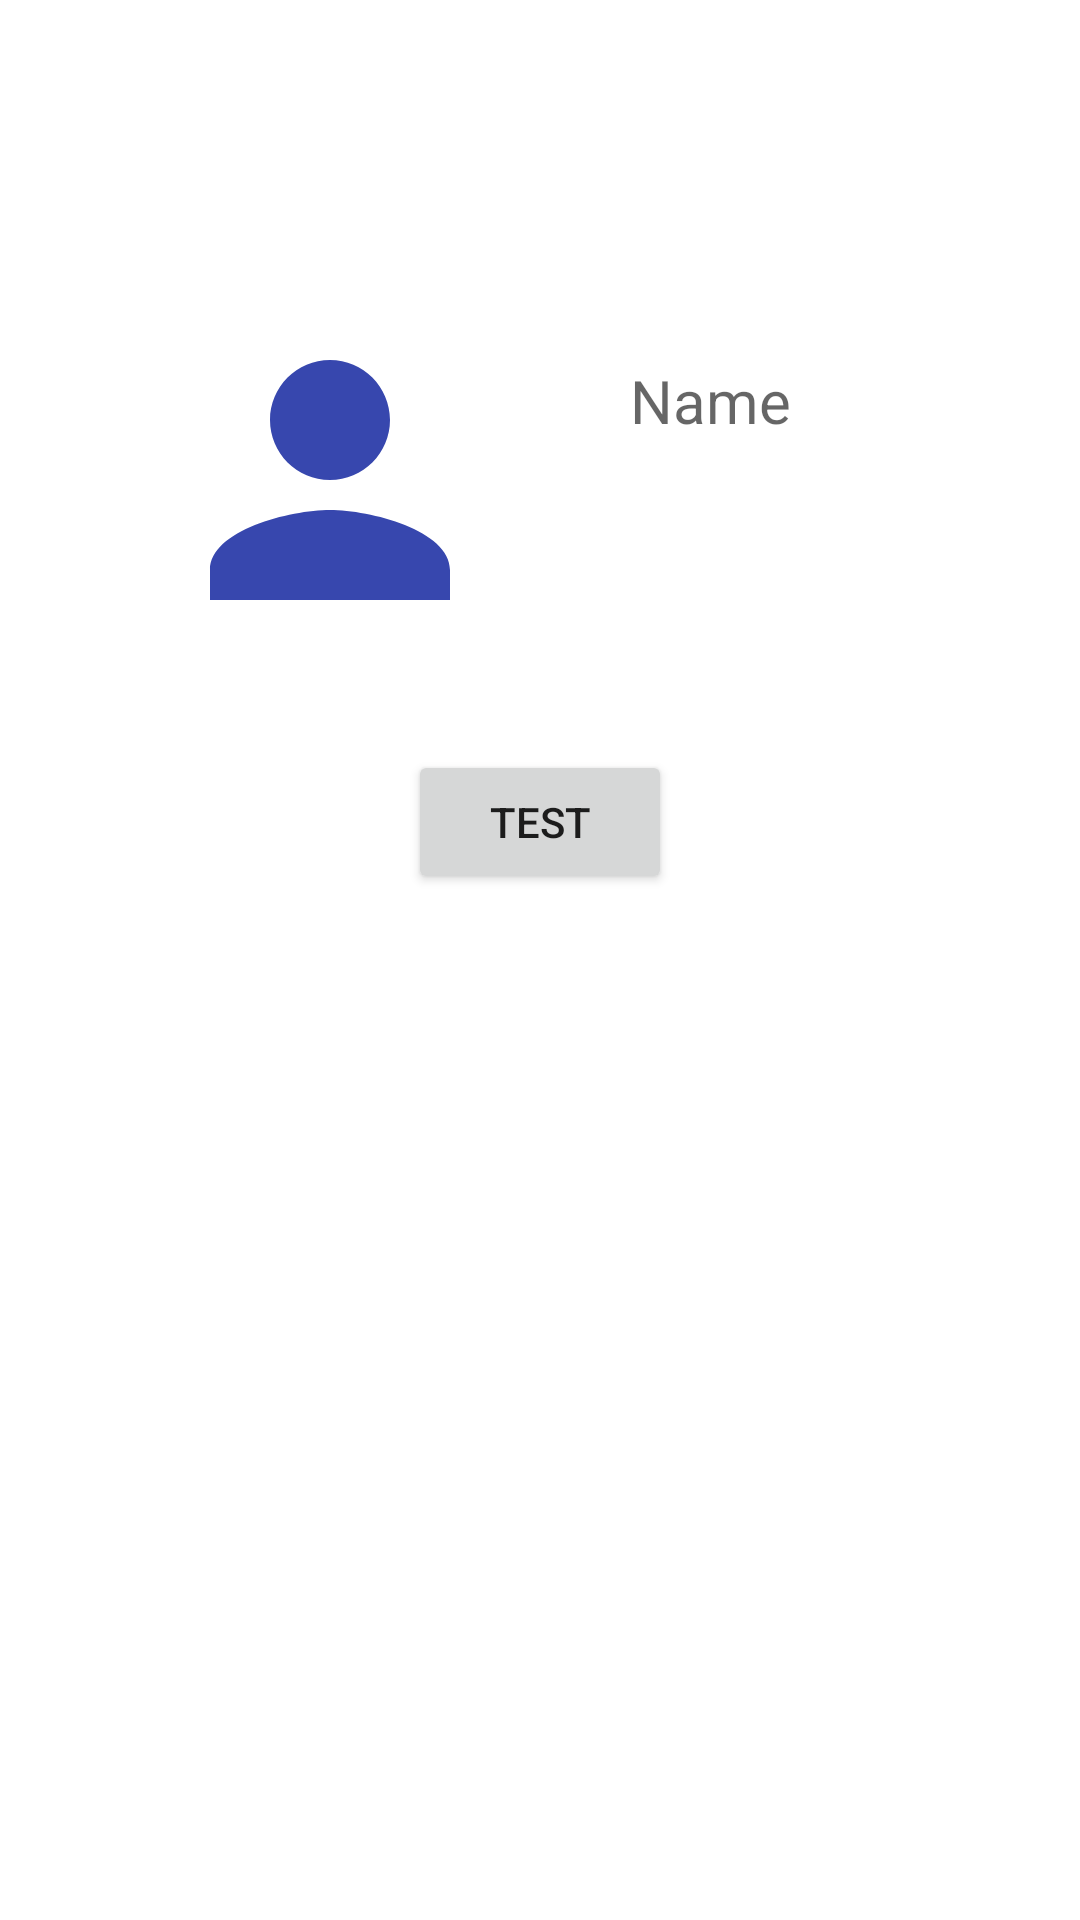

Screen size 1080 x 1920. Icon name, then its box in pixels as (x1, y1, x2, y2):
person: (210, 360, 450, 600)
